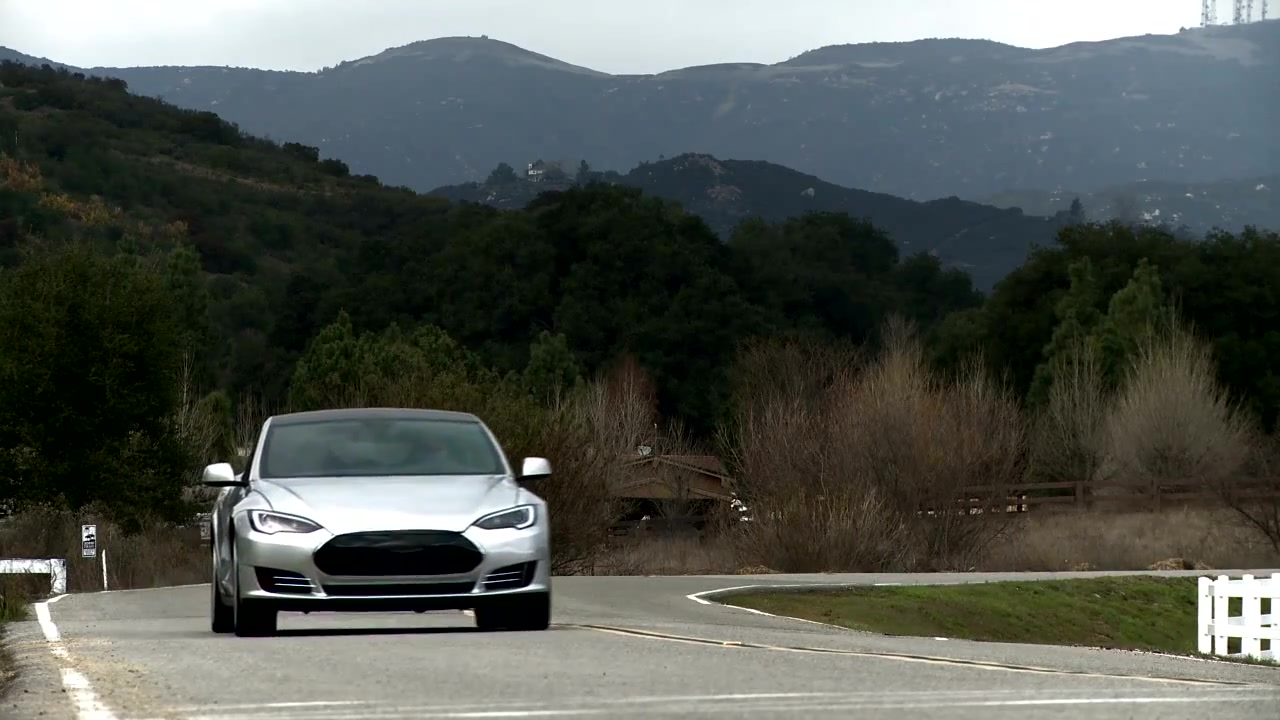car: (199, 408, 560, 638)
